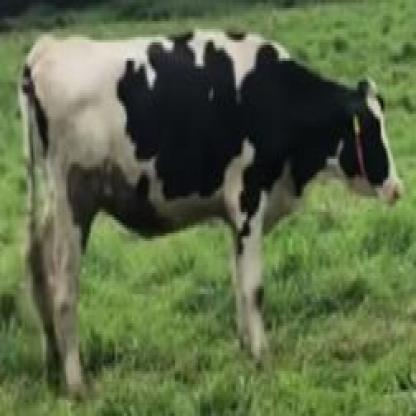cow: (18, 30, 405, 393)
